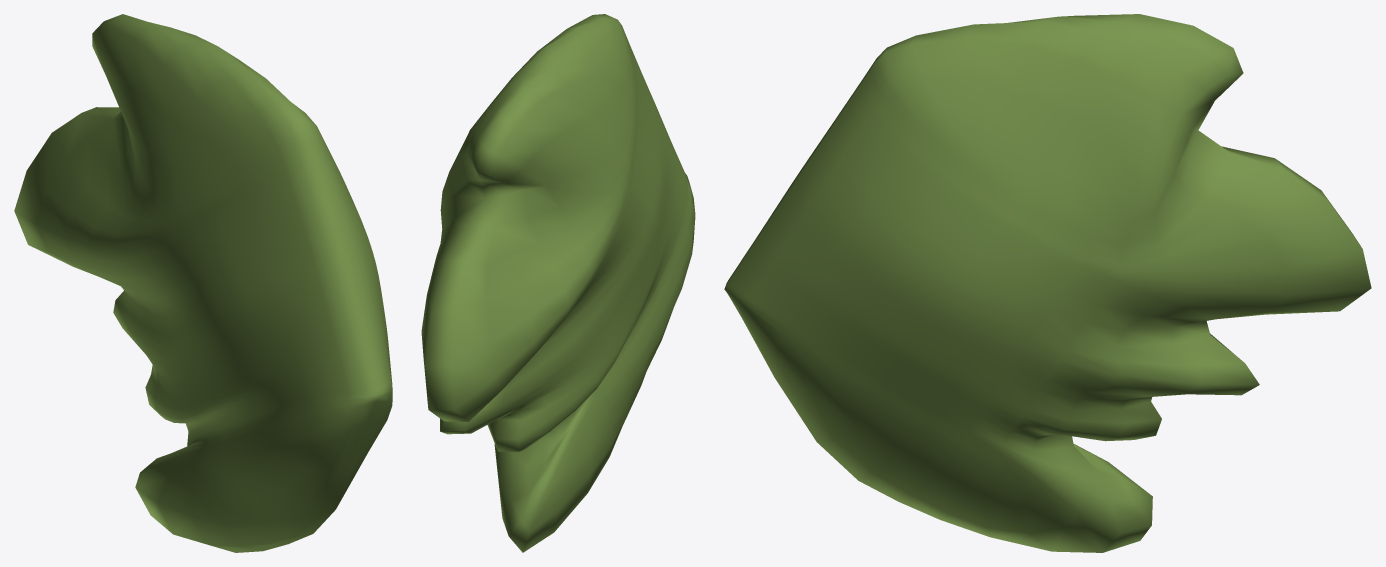
The model's file is Herbes.fbx.
The picture shows the model from 3 angles, left to right: view 1: azimuth 30°, elevation 25°; view 2: azimuth 150°, elevation 25°; view 3: azimuth 270°, elevation 25°; orthographic projection. The views are drawn at different scales.
Visible parts, largest first — view 1: Cube.014; view 2: Cube.014; view 3: Cube.014.
Part boxes in pixels (x1,y1,x2,y2): Cube.014: (14, 14, 392, 552); Cube.014: (421, 14, 695, 552); Cube.014: (724, 14, 1371, 552).
Bounding box in the file's own units: 4.34 × 11.85 × 13.05.
